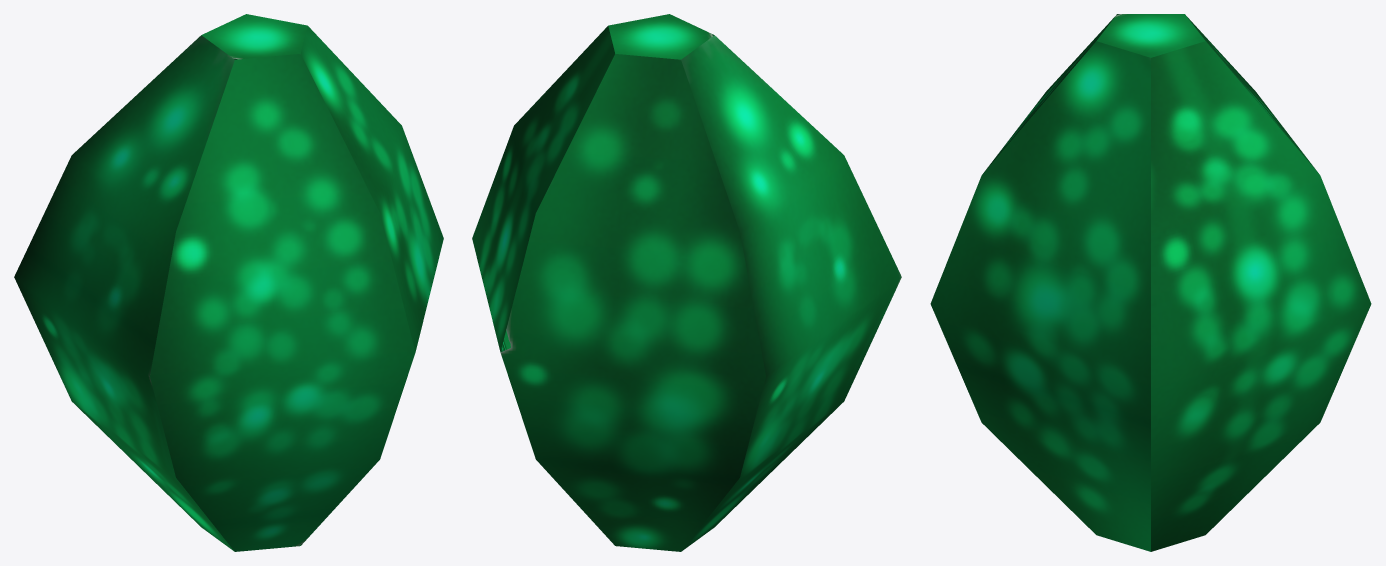
File: qixinpiaochong_seed.fbx
3 renders of one model, left to right at view 1: azimuth 30°, elevation 25°; view 2: azimuth 150°, elevation 25°; view 3: azimuth 270°, elevation 25°, orthographic.
Visible parts, largest first — view 1: pPrism1; view 2: pPrism1; view 3: pPrism1.
Boxes of the visible parts, x1,y1,x2,y2 form: pPrism1: (14,14,443,551); pPrism1: (472,14,901,551); pPrism1: (930,14,1371,551).
Size of the model in its own units: 0.5702 by 0.741 by 0.5995.
1 material, 1 textured.
